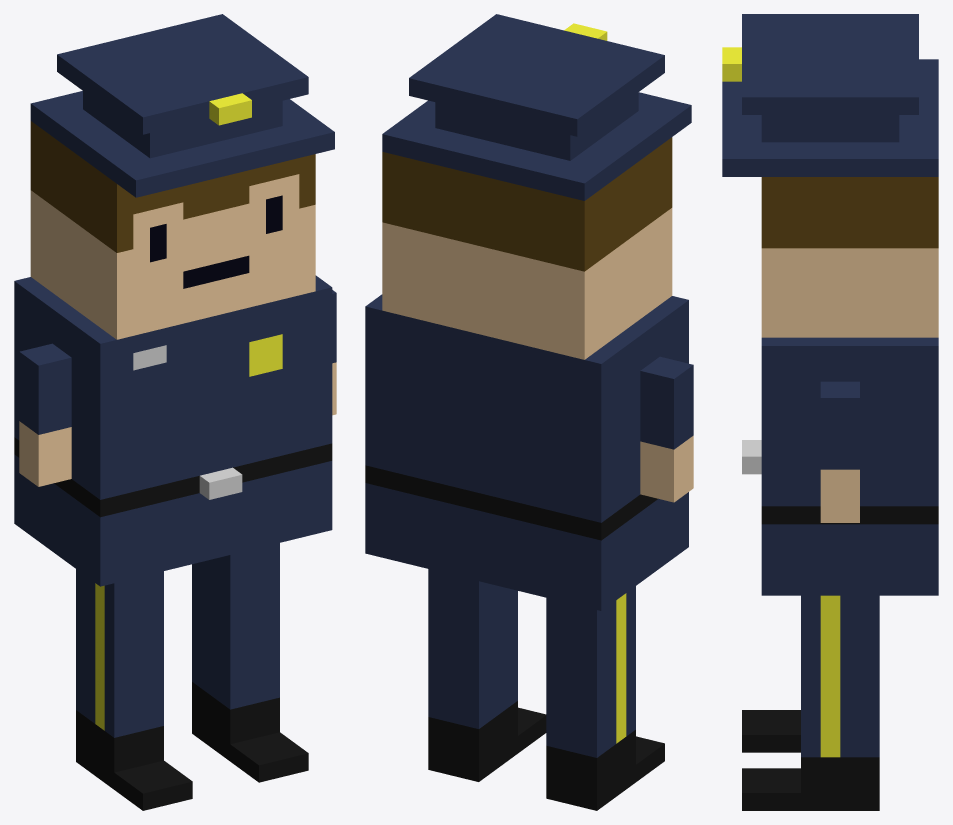
File: Player22.obj
3 renders of one model, left to right at view 1: azimuth 30°, elevation 25°; view 2: azimuth 150°, elevation 25°; view 3: azimuth 270°, elevation 25°, orthographic. The views are drawn at different scales.
Visible parts, largest first — view 1: Player22; view 2: Player22; view 3: Player22.
Part boxes in pixels (x1,y1,x2,y2): Player22: [14, 14, 336, 810]; Player22: [365, 14, 693, 810]; Player22: [722, 14, 938, 810].
Size of the model in its own units: 18 by 40 by 11.
